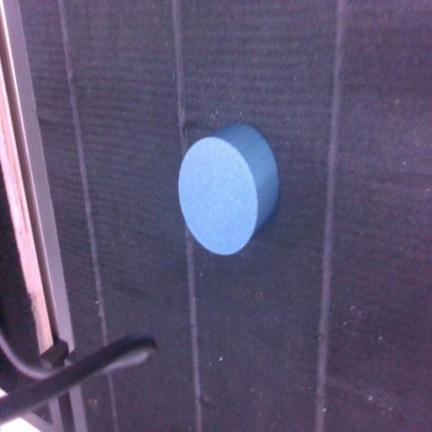cylinder: (178, 123, 278, 255)
